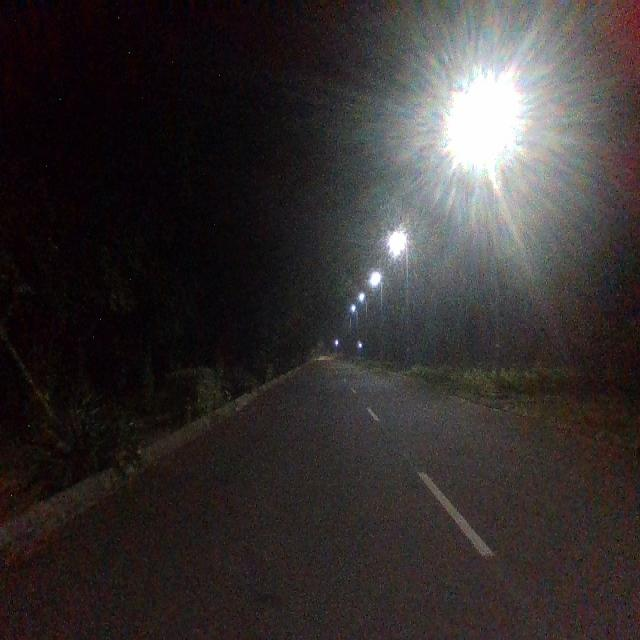lane: (0, 366, 546, 640)
